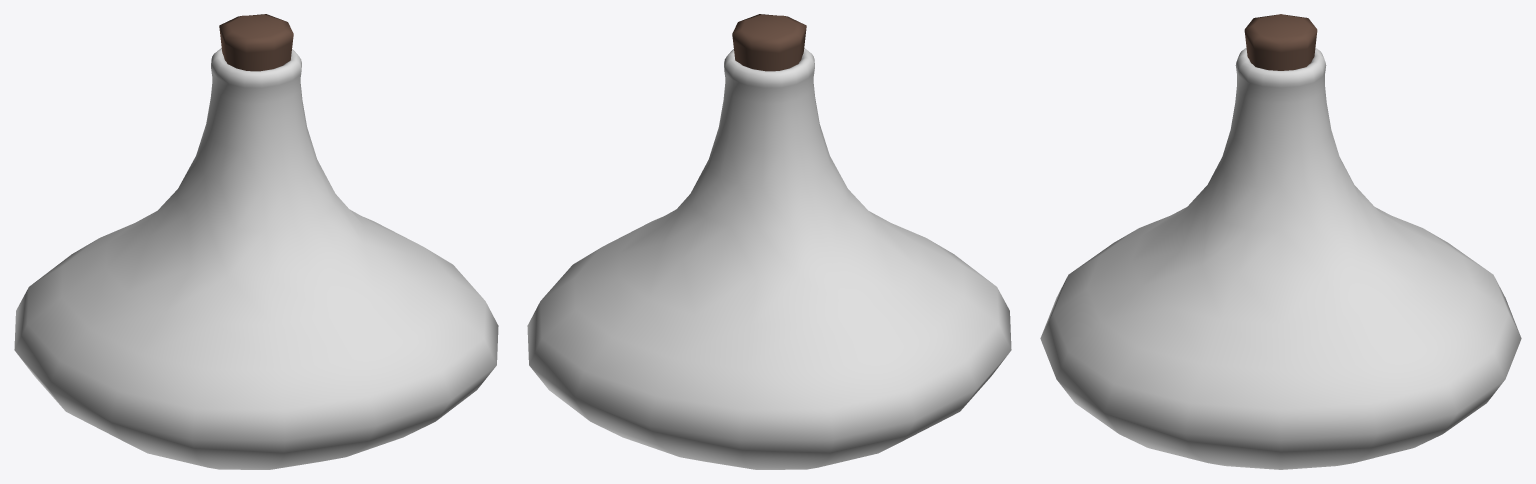
The model's file is potion8_filled.glb.
The picture shows the model from 3 angles, left to right: view 1: azimuth 30°, elevation 25°; view 2: azimuth 150°, elevation 25°; view 3: azimuth 270°, elevation 25°; orthographic projection.
Visible parts, largest first — view 1: Potion8_Filled; view 2: Potion8_Filled; view 3: Potion8_Filled.
Part boxes in pixels (x1,y1,x2,y2): Potion8_Filled: (14, 14, 498, 469); Potion8_Filled: (527, 14, 1011, 469); Potion8_Filled: (1040, 14, 1521, 469).
Bounding box in the file's own units: 0.7035 × 0.6821 × 0.7035.
